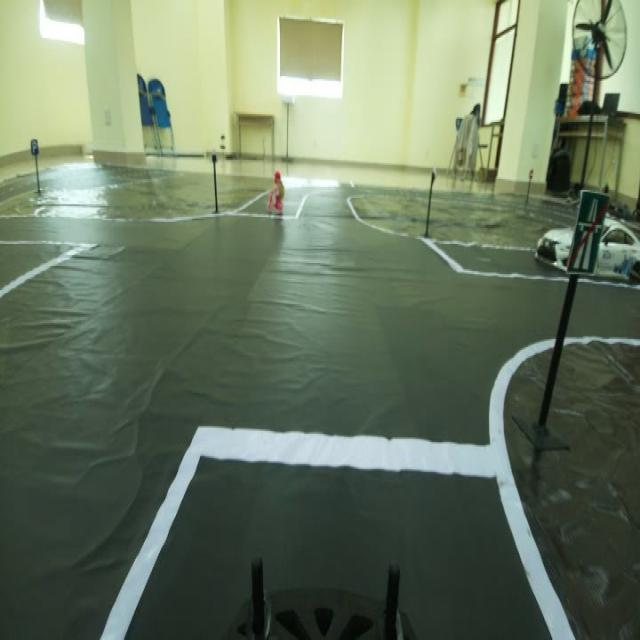highway_exit: (567, 180, 610, 286)
